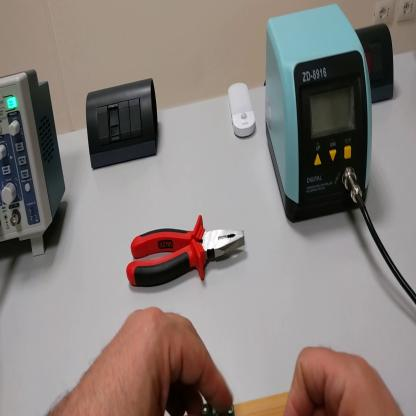hand: (48, 304, 235, 414), (283, 343, 404, 415)
oscilloscope: (2, 71, 67, 257)
oscilloscope probe tip: (205, 404, 238, 415)
pliers: (125, 216, 250, 293)
socket: (355, 23, 397, 104)
welder station: (263, 1, 375, 229)
working area: (235, 376, 290, 414)
